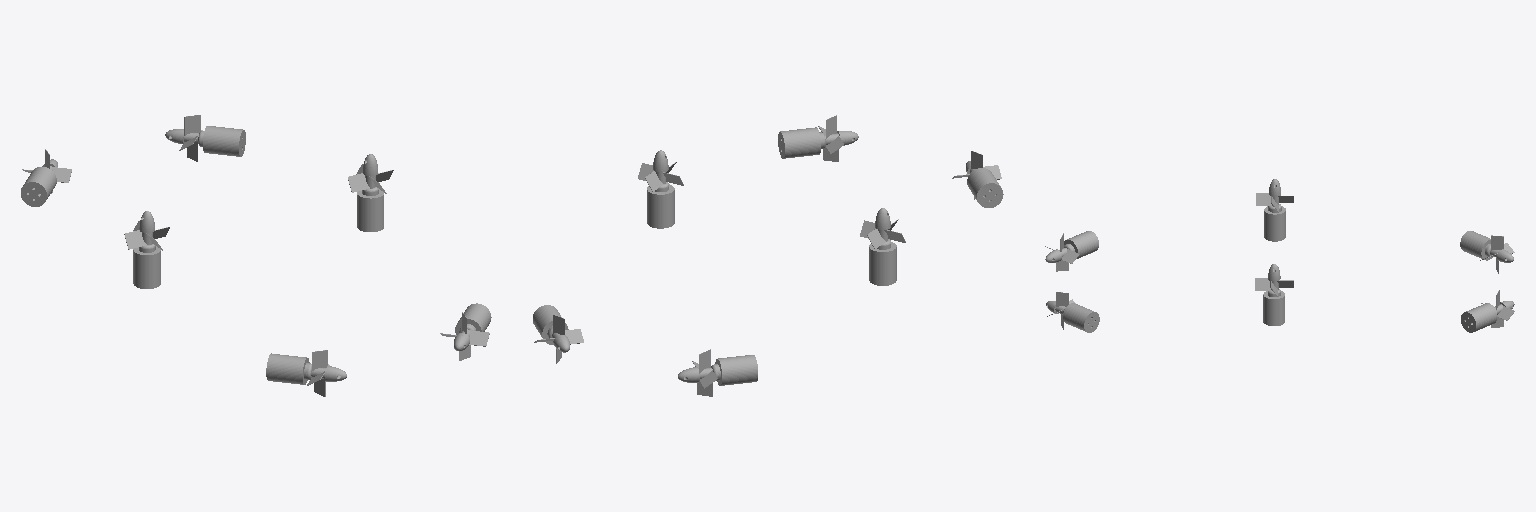
URDF robot description (robosub_urdf):
<?xml version="1.0" ?>
<robot name="robosub_urdf">

<material name="silver">
  <color rgba="0.700 0.700 0.700 1.000"/>
</material>

<link name="base_link">
  <inertial>
    <origin xyz="-0.008689334772284675 0.10096966157973847 -0.035304194512593035" rpy="0 0 0"/>
    <mass value="21.348464861997673"/>
    <inertia ixx="0.894725" iyy="0.565941" izz="1.254673" ixy="-0.002706" iyz="0.010746" ixz="-0.004193"/>
  </inertial>
  <visual>
    <origin xyz="0 0 0" rpy="0 0 0"/>
    <geometry>
      <mesh filename="package://robosub_urdf_description/meshes/base_link.stl" scale="0.001 0.001 0.001"/>
    </geometry>
    <material name="silver"/>
  </visual>
  <collision>
    <origin xyz="0 0 0" rpy="0 0 0"/>
    <geometry>
      <mesh filename="package://robosub_urdf_description/meshes/base_link.stl" scale="0.001 0.001 0.001"/>
    </geometry>
  </collision>
</link>

<link name="Component12_1">
  <inertial>
    <origin xyz="0.01915562800370689 -0.019155809586669126 3.388588197747455e-07" rpy="0 0 0"/>
    <mass value="0.2327632788225813"/>
    <inertia ixx="5.7e-05" iyy="5.7e-05" izz="9.3e-05" ixy="3.6e-05" iyz="0.0" ixz="-0.0"/>
  </inertial>
  <visual>
    <origin xyz="0.123171 0.153303 0.062329" rpy="0 0 0"/>
    <geometry>
      <mesh filename="package://robosub_urdf_description/meshes/Component12_1.stl" scale="0.001 0.001 0.001"/>
    </geometry>
    <material name="silver"/>
  </visual>
  <collision>
    <origin xyz="0.123171 0.153303 0.062329" rpy="0 0 0"/>
    <geometry>
      <mesh filename="package://robosub_urdf_description/meshes/Component12_1.stl" scale="0.001 0.001 0.001"/>
    </geometry>
  </collision>
</link>

<link name="Component12_2">
  <inertial>
    <origin xyz="-0.019155779926447528 -0.019155490596883123 3.388588195873954e-07" rpy="0 0 0"/>
    <mass value="0.2327632788225813"/>
    <inertia ixx="5.7e-05" iyy="5.7e-05" izz="9.3e-05" ixy="-3.6e-05" iyz="0.0" ixz="0.0"/>
  </inertial>
  <visual>
    <origin xyz="-0.120971 0.152654 0.062329" rpy="0 0 0"/>
    <geometry>
      <mesh filename="package://robosub_urdf_description/meshes/Component12_2.stl" scale="0.001 0.001 0.001"/>
    </geometry>
    <material name="silver"/>
  </visual>
  <collision>
    <origin xyz="-0.120971 0.152654 0.062329" rpy="0 0 0"/>
    <geometry>
      <mesh filename="package://robosub_urdf_description/meshes/Component12_2.stl" scale="0.001 0.001 0.001"/>
    </geometry>
  </collision>
</link>

<link name="Component12_3">
  <inertial>
    <origin xyz="0.019155623725996884 0.01915562981204222 3.358321902097172e-07" rpy="0 0 0"/>
    <mass value="0.2327632788225813"/>
    <inertia ixx="5.7e-05" iyy="5.7e-05" izz="9.3e-05" ixy="-3.6e-05" iyz="0.0" ixz="0.0"/>
  </inertial>
  <visual>
    <origin xyz="0.123394 -0.324791 0.062329" rpy="0 0 0"/>
    <geometry>
      <mesh filename="package://robosub_urdf_description/meshes/Component12_3.stl" scale="0.001 0.001 0.001"/>
    </geometry>
    <material name="silver"/>
  </visual>
  <collision>
    <origin xyz="0.123394 -0.324791 0.062329" rpy="0 0 0"/>
    <geometry>
      <mesh filename="package://robosub_urdf_description/meshes/Component12_3.stl" scale="0.001 0.001 0.001"/>
    </geometry>
  </collision>
</link>

<link name="Component12_4">
  <inertial>
    <origin xyz="-0.019155775648737425 0.019155948955767443 3.3583219003624487e-07" rpy="0 0 0"/>
    <mass value="0.2327632788225813"/>
    <inertia ixx="5.7e-05" iyy="5.7e-05" izz="9.3e-05" ixy="3.6e-05" iyz="0.0" ixz="-0.0"/>
  </inertial>
  <visual>
    <origin xyz="-0.121194 -0.32544 0.062329" rpy="0 0 0"/>
    <geometry>
      <mesh filename="package://robosub_urdf_description/meshes/Component12_4.stl" scale="0.001 0.001 0.001"/>
    </geometry>
    <material name="silver"/>
  </visual>
  <collision>
    <origin xyz="-0.121194 -0.32544 0.062329" rpy="0 0 0"/>
    <geometry>
      <mesh filename="package://robosub_urdf_description/meshes/Component12_4.stl" scale="0.001 0.001 0.001"/>
    </geometry>
  </collision>
</link>

<link name="Component12_5">
  <inertial>
    <origin xyz="-6.05982949930528e-09 -1.6569399360899517e-07 0.02709035098837861" rpy="0 0 0"/>
    <mass value="0.2327632788225813"/>
    <inertia ixx="9.3e-05" iyy="9.3e-05" izz="2.1e-05" ixy="0.0" iyz="0.0" ixz="0.0"/>
  </inertial>
  <visual>
    <origin xyz="-0.128755 -0.078854 0.05765" rpy="0 0 0"/>
    <geometry>
      <mesh filename="package://robosub_urdf_description/meshes/Component12_5.stl" scale="0.001 0.001 0.001"/>
    </geometry>
    <material name="silver"/>
  </visual>
  <collision>
    <origin xyz="-0.128755 -0.078854 0.05765" rpy="0 0 0"/>
    <geometry>
      <mesh filename="package://robosub_urdf_description/meshes/Component12_5.stl" scale="0.001 0.001 0.001"/>
    </geometry>
  </collision>
</link>

<link name="Component12_6">
  <inertial>
    <origin xyz="-4.639358066049759e-07 3.793603027685277e-07 0.027089899844563767" rpy="0 0 0"/>
    <mass value="0.2327632788225813"/>
    <inertia ixx="9.3e-05" iyy="9.3e-05" izz="2.1e-05" ixy="0.0" iyz="0.0" ixz="0.0"/>
  </inertial>
  <visual>
    <origin xyz="0.132096 -0.079757 0.060705" rpy="0 0 0"/>
    <geometry>
      <mesh filename="package://robosub_urdf_description/meshes/Component12_6.stl" scale="0.001 0.001 0.001"/>
    </geometry>
    <material name="silver"/>
  </visual>
  <collision>
    <origin xyz="0.132096 -0.079757 0.060705" rpy="0 0 0"/>
    <geometry>
      <mesh filename="package://robosub_urdf_description/meshes/Component12_6.stl" scale="0.001 0.001 0.001"/>
    </geometry>
  </collision>
</link>

<joint name="Revolute 4" type="continuous">
  <origin xyz="-0.123171 -0.153303 -0.062329" rpy="0 0 0"/>
  <parent link="base_link"/>
  <child link="Component12_1"/>
  <axis xyz="0.707107 -0.707107 -0.0"/>
</joint>

<joint name="Revolute 5" type="continuous">
  <origin xyz="0.120971 -0.152654 -0.062329" rpy="0 0 0"/>
  <parent link="base_link"/>
  <child link="Component12_2"/>
  <axis xyz="-0.707107 -0.707107 -0.0"/>
</joint>

<joint name="Revolute 6" type="continuous">
  <origin xyz="-0.123394 0.324791 -0.062329" rpy="0 0 0"/>
  <parent link="base_link"/>
  <child link="Component12_3"/>
  <axis xyz="0.707107 0.707107 0.0"/>
</joint>

<joint name="Revolute 7" type="continuous">
  <origin xyz="0.121194 0.32544 -0.062329" rpy="0 0 0"/>
  <parent link="base_link"/>
  <child link="Component12_4"/>
  <axis xyz="-0.707107 0.707107 0.0"/>
</joint>

<joint name="Revolute 8" type="continuous">
  <origin xyz="0.128755 0.078854 -0.05765" rpy="0 0 0"/>
  <parent link="base_link"/>
  <child link="Component12_5"/>
  <axis xyz="-0.0 -0.0 1.0"/>
</joint>

<joint name="Revolute 9" type="continuous">
  <origin xyz="-0.132096 0.079757 -0.060705" rpy="0 0 0"/>
  <parent link="base_link"/>
  <child link="Component12_6"/>
  <axis xyz="-0.0 0.0 1.0"/>
</joint>

</robot>

--- What the picture shows (computed from the rendered views, not written in the file) ---
3 views of the same robot in one strip: view 1: azimuth 30°, elevation 25°; view 2: azimuth 150°, elevation 25°; view 3: azimuth 270°, elevation 25° (orthographic).
Model robosub_urdf with 7 links and 6 joints (6 continuous), rooted at base_link, posed every joint at zero.
Links seen in each view (by area): view 1: Component12_1, Component12_4, Component12_6, Component12_5, Component12_2, Component12_3; view 2: Component12_3, Component12_2, Component12_5, Component12_6, Component12_1, Component12_4; view 3: Component12_5, Component12_6, Component12_4, Component12_3, Component12_1, Component12_2.
Link boxes in pixels (x1=…): Component12_1: x1=266, y1=350, x2=346, y2=396; Component12_4: x1=165, y1=115, x2=245, y2=161; Component12_6: x1=124, y1=211, x2=169, y2=288; Component12_5: x1=348, y1=154, x2=393, y2=231; Component12_2: x1=440, y1=303, x2=491, y2=360; Component12_3: x1=21, y1=149, x2=71, y2=206; Component12_3: x1=678, y1=349, x2=757, y2=396; Component12_2: x1=778, y1=115, x2=858, y2=161; Component12_5: x1=638, y1=150, x2=683, y2=228; Component12_6: x1=860, y1=208, x2=905, y2=285; Component12_1: x1=952, y1=151, x2=1003, y2=207; Component12_4: x1=533, y1=305, x2=583, y2=363; Component12_5: x1=1255, y1=264, x2=1293, y2=325; Component12_6: x1=1256, y1=179, x2=1293, y2=241; Component12_4: x1=1461, y1=290, x2=1514, y2=332; Component12_3: x1=1460, y1=231, x2=1514, y2=273; Component12_1: x1=1045, y1=231, x2=1098, y2=271; Component12_2: x1=1046, y1=292, x2=1099, y2=332.
Size in the robot's own frame: 0.3099 by 0.5979 by 0.1102 metres.
Meshes: 7 distinct files referenced, 6 mesh visuals loaded (6 binary STL); not drawn: 1 (reference not matched to a file when rendering).
